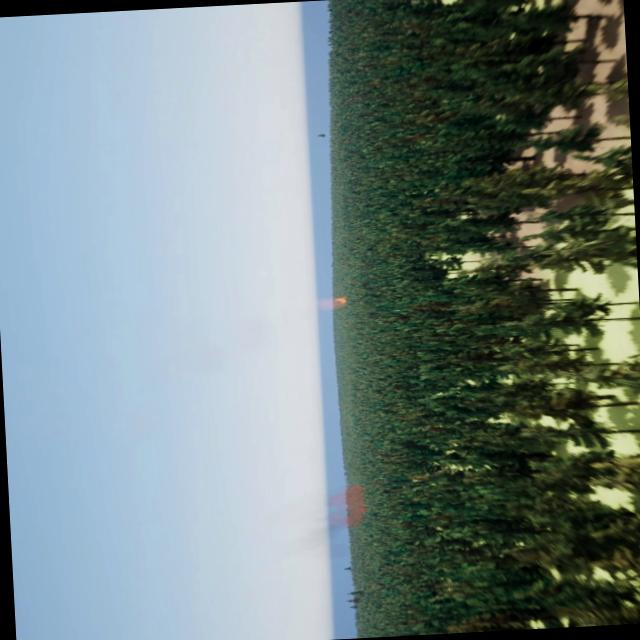smoke: (318, 481, 374, 531), (310, 292, 351, 312)
